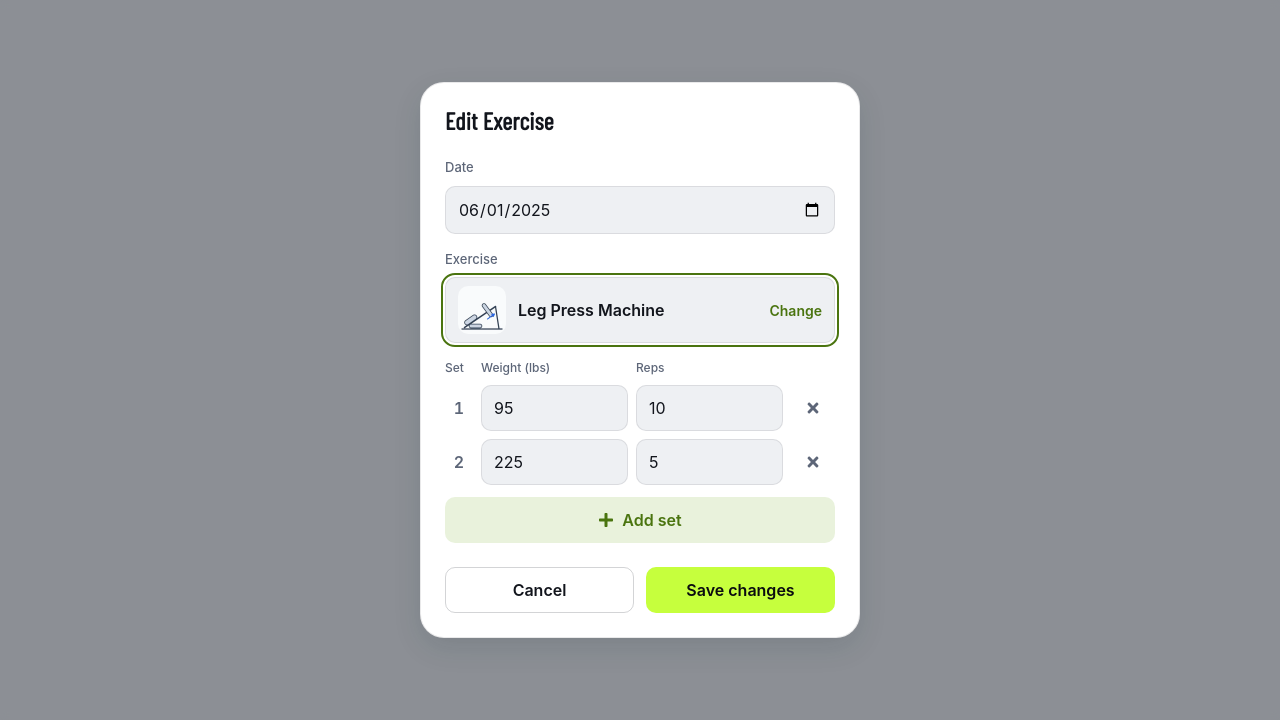
Scenario: editing › stays open and shows the error text when a set becomes invalid
Clear the number field named "set 2 reps" at (710, 462), box [636,439,783,485]
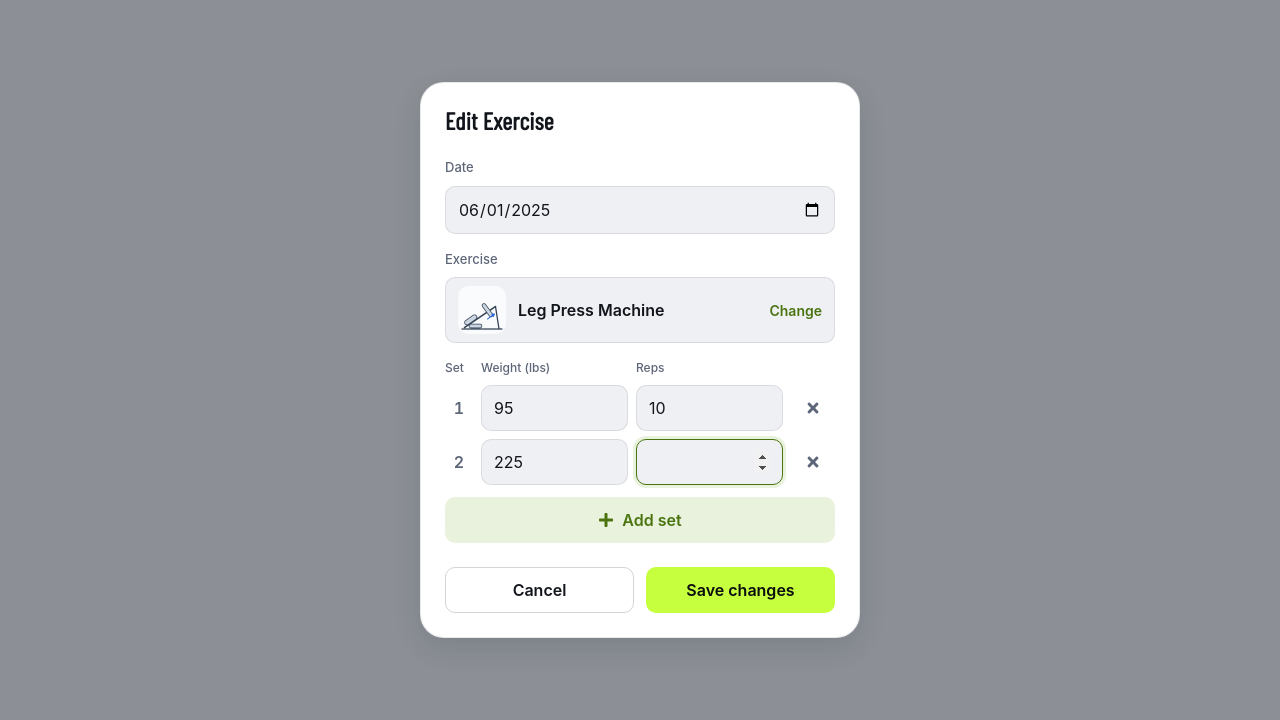
Click the button "Save changes".
click(740, 590)  # box [646,567,835,613]
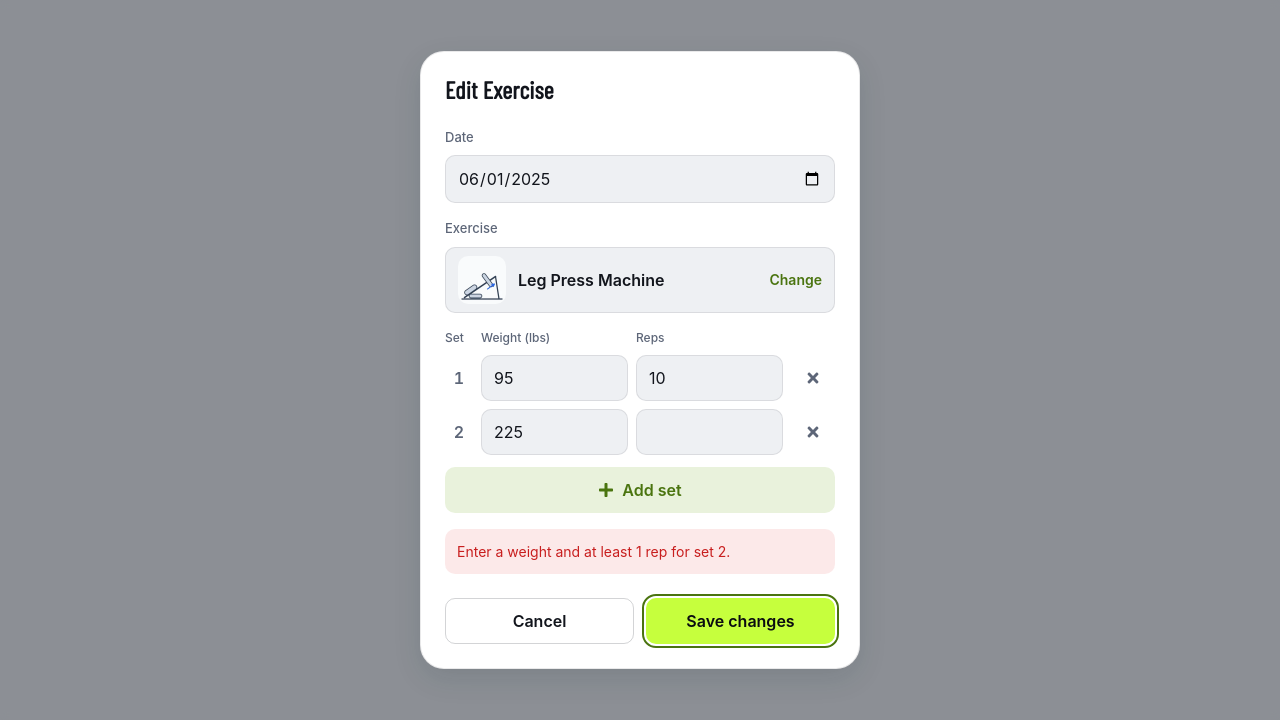
Check: the message shows "set 2", box [457,543,730,560]
